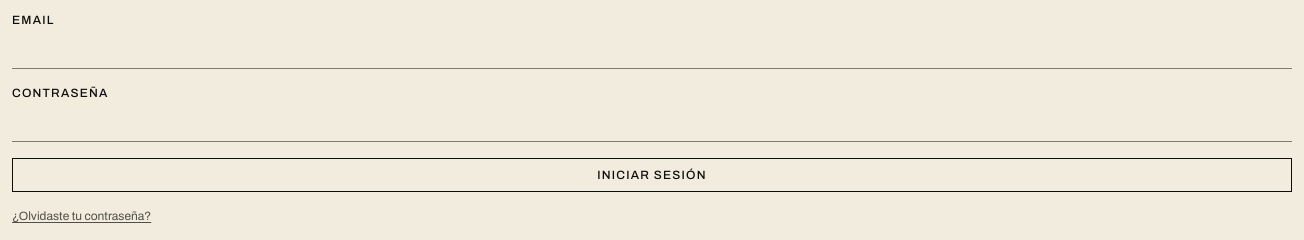
it: LoginForm › deja el formulario deshabilitado tras un login exitoso, a la espera de que la sesion se confirme
Type "ana@clack.com" into the field labelled "Email" at (652, 50), box [12, 32, 1292, 69]
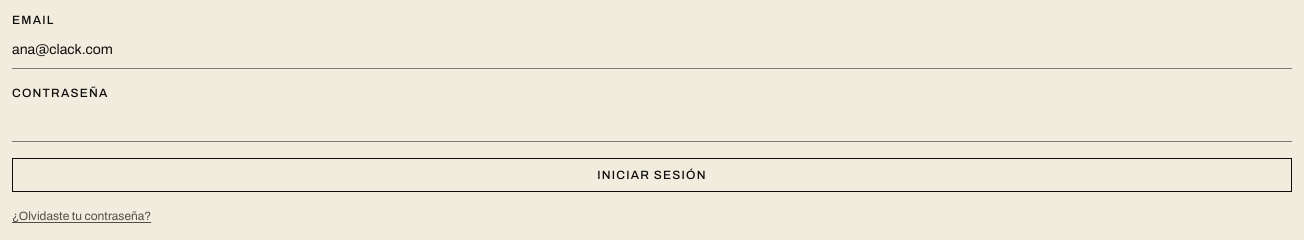
Type "12345678" into the password field labelled "Contraseña" at (652, 124), box [12, 105, 1292, 142]
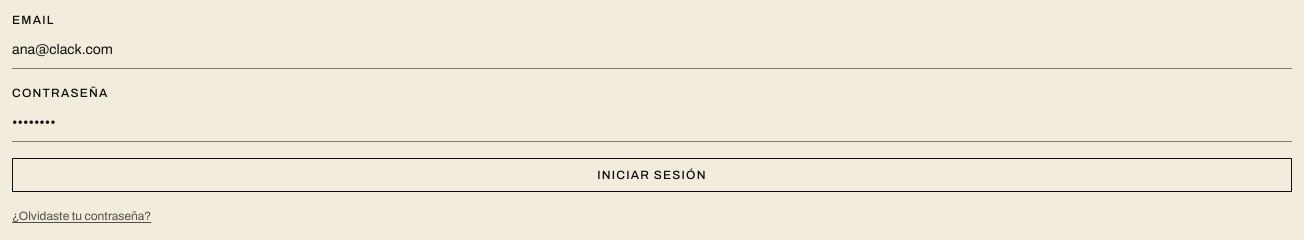
Click the button "Iniciar sesión" at (652, 175), box [12, 158, 1292, 192]
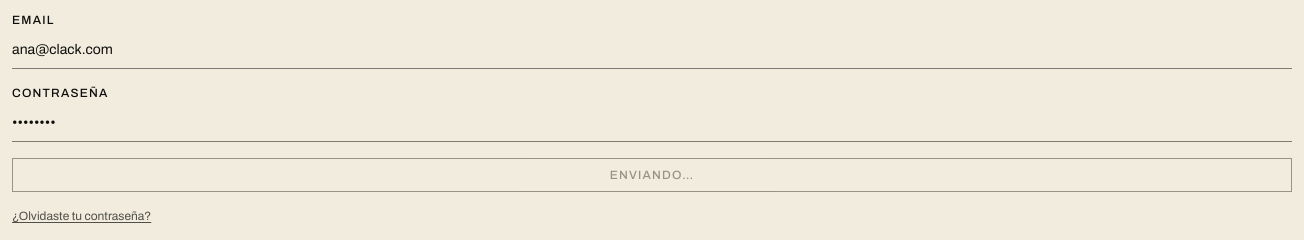
Check: the field labelled "Email" is disabled, box [12, 32, 1292, 69]
Check: the button named "Iniciar sesión" is disabled, box [12, 158, 1292, 192]
